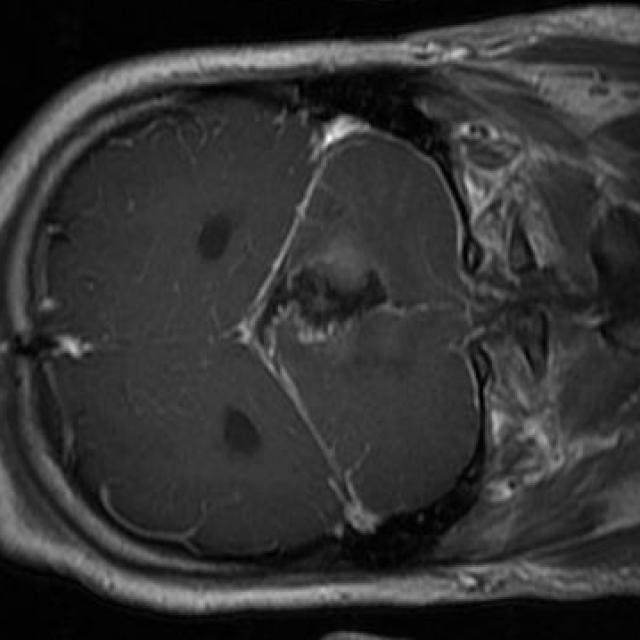glioma: (255, 250, 387, 358)
